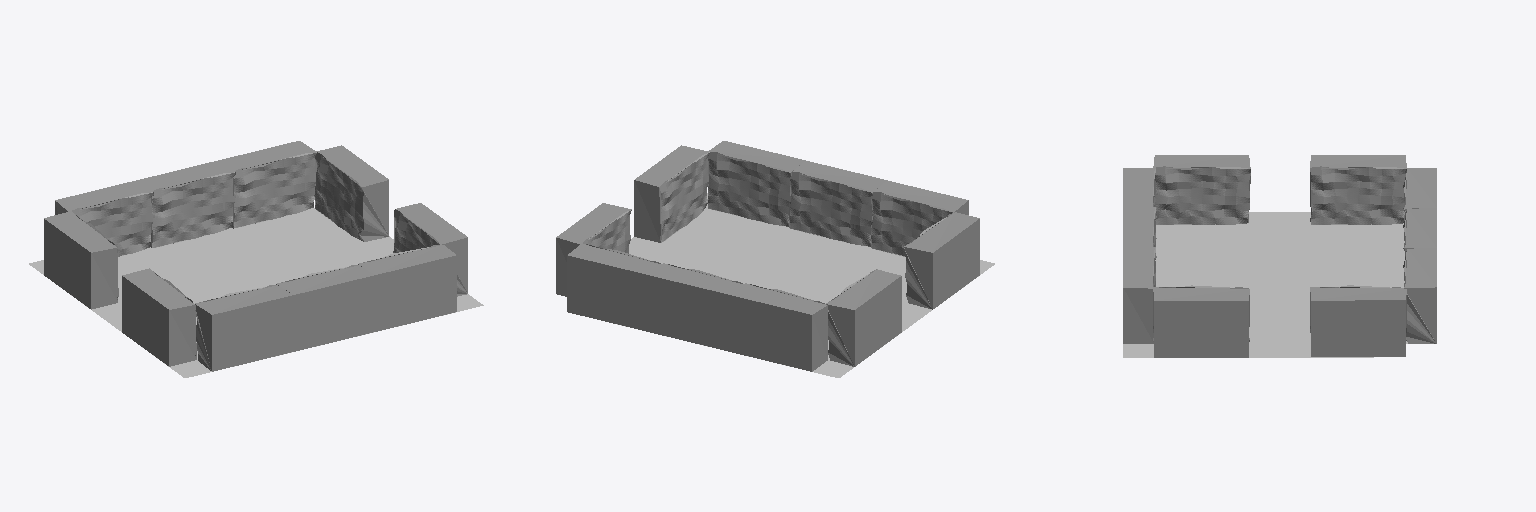
File: center.obj
The picture shows the model from 3 angles: view 1: azimuth 30°, elevation 25°; view 2: azimuth 150°, elevation 25°; view 3: azimuth 270°, elevation 25°; orthographic projection.
Visible parts, largest first — view 1: Cube.006_Cube.007, Cube.007_Cube.008, Cube.005_Cube.006, Cube.009_Cube.010, Cube.000_Cube.002, Cube.001, Cube.002_Cube.003, Cube.008_Cube.009, Cube.004_Cube.005, Cube.003_Cube.004, Plane.010_Plane.012, Plane.009_Plane.011 (+9 smaller); view 2: Cube.004_Cube.005, Cube.009_Cube.010, Cube.007_Cube.008, Cube.000_Cube.002, Cube.005_Cube.006, Cube.001, Cube.002_Cube.003, Cube.003_Cube.004, Cube.006_Cube.007, Cube.008_Cube.009, Plane.022_Plane.024, Plane.019_Plane.021 (+8 smaller); view 3: Cube.003_Cube.004, Cube.008_Cube.009, Cube.002_Cube.003, Cube.001, Cube.007_Cube.008, Cube.009_Cube.010, Plane.004_Plane.006, Plane.007_Plane.009, Plane.017_Plane.019, Plane.002, Plane.001_Plane.005, Plane (+13 smaller).
Boxes of the visible parts, <box> form: Cube.006_Cube.007: <box>195,285,293,371</box>; Cube.007_Cube.008: <box>358,245,456,331</box>; Cube.005_Cube.006: <box>276,265,374,351</box>; Cube.009_Cube.010: <box>219,141,316,228</box>; Cube.000_Cube.002: <box>137,160,235,247</box>; Cube.001: <box>122,268,196,366</box>; Cube.002_Cube.003: <box>44,211,118,309</box>; Cube.008_Cube.009: <box>314,145,388,241</box>; Cube.004_Cube.005: <box>55,180,153,256</box>; Cube.003_Cube.004: <box>393,203,467,296</box>; Plane.010_Plane.012: <box>277,221,389,256</box>; Plane.009_Plane.011: <box>223,234,307,269</box>; Cube.004_Cube.005: <box>730,283,827,371</box>; Cube.009_Cube.010: <box>567,243,661,331</box>; Cube.007_Cube.008: <box>708,141,805,226</box>; Cube.000_Cube.002: <box>649,263,743,351</box>; Cube.005_Cube.006: <box>789,161,886,246</box>; Cube.001: <box>904,212,979,309</box>; Cube.002_Cube.003: <box>826,269,901,366</box>; Cube.003_Cube.004: <box>634,145,709,242</box>; Cube.006_Cube.007: <box>871,180,968,256</box>; Cube.008_Cube.009: <box>556,203,631,296</box>; Plane.022_Plane.024: <box>689,227,800,269</box>; Plane.019_Plane.021: <box>771,247,854,282</box>; Cube.003_Cube.004: <box>1153,285,1249,357</box>; Cube.008_Cube.009: <box>1310,285,1406,356</box>; Cube.002_Cube.003: <box>1310,155,1406,224</box>; Cube.001: <box>1153,155,1250,224</box>; Cube.007_Cube.008: <box>1123,247,1155,343</box>; Cube.009_Cube.010: <box>1403,248,1436,343</box>; Plane.004_Plane.006: <box>1249,291,1309,330</box>; Plane.007_Plane.009: <box>1311,238,1373,264</box>; Plane.017_Plane.019: <box>1186,238,1248,264</box>; Plane.002: <box>1249,238,1310,264</box>; Plane.001_Plane.005: <box>1249,331,1310,357</box>; Plane: <box>1249,212,1310,237</box>.
Size of the model in its own units: 11 by 2.08 by 10.